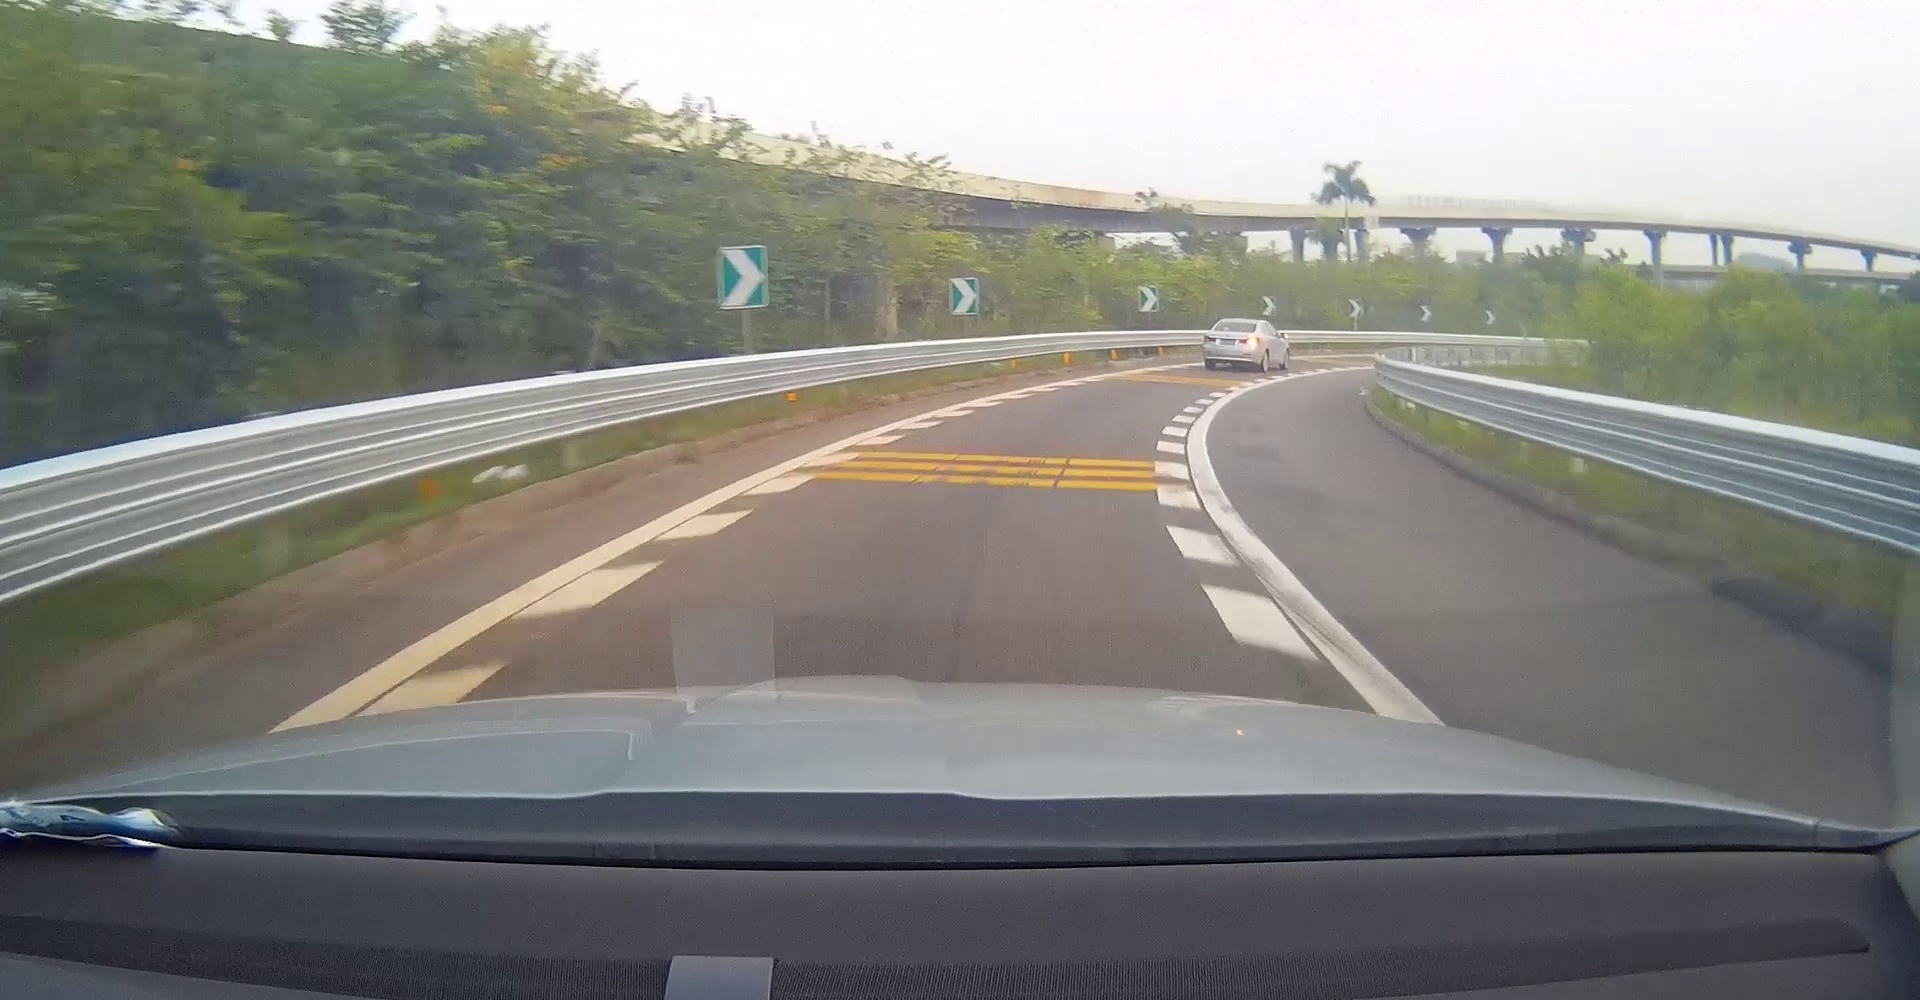L_light: (1204, 335, 1217, 341)
R_light: (1239, 338, 1258, 345)
T_light: (1233, 322, 1242, 324)
day-right: (1203, 319, 1261, 371)
